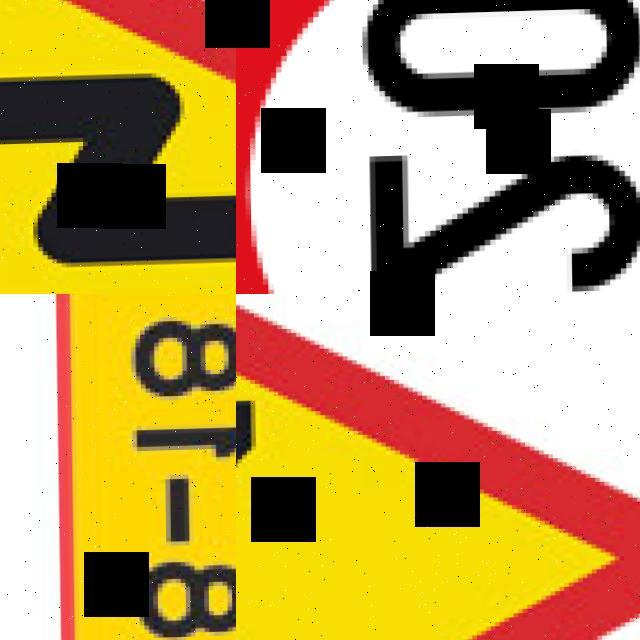138: (236, 294, 640, 640)
139: (0, 0, 236, 294)
181: (51, 294, 236, 640)
speed-limit-120: (236, 0, 640, 294)
